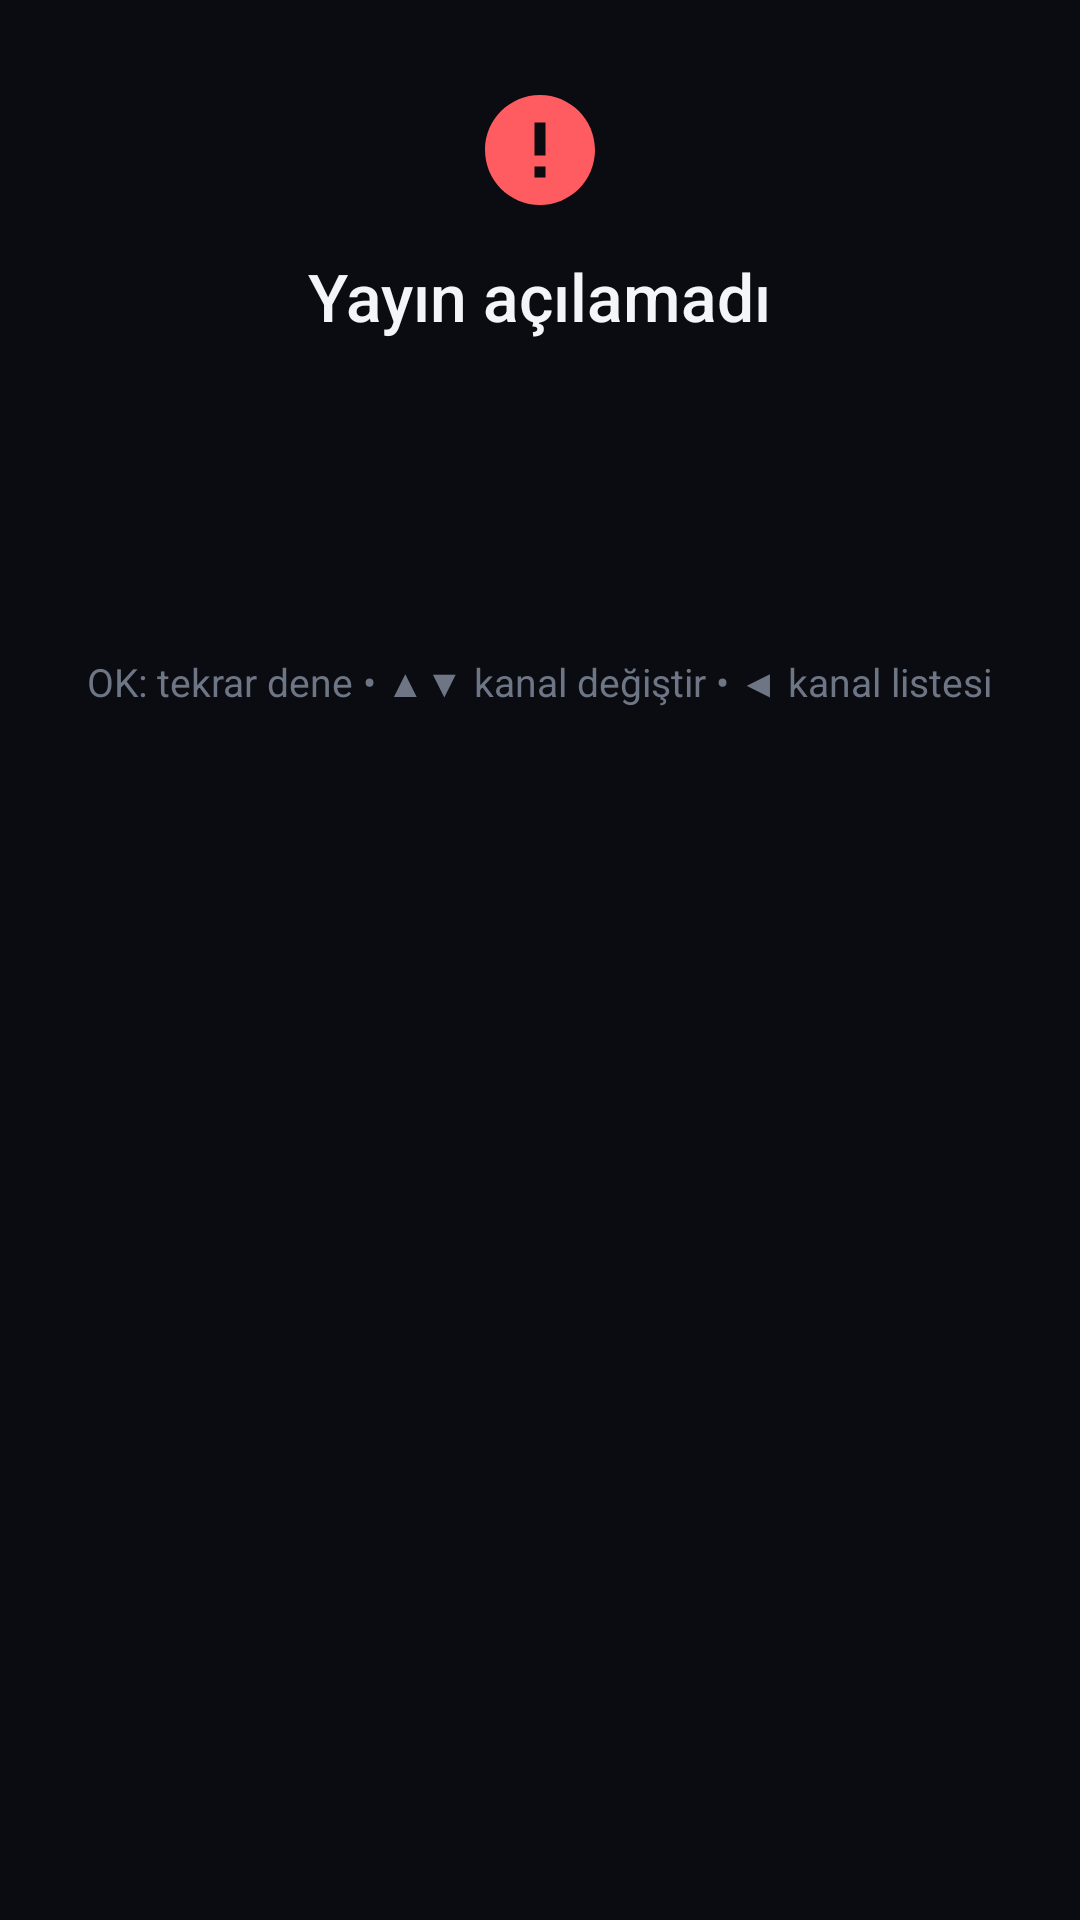

Icons on this 1080×1920 Android screen, each with its box as (x1, y1, x2, y2):
error: (485, 95, 595, 205)
